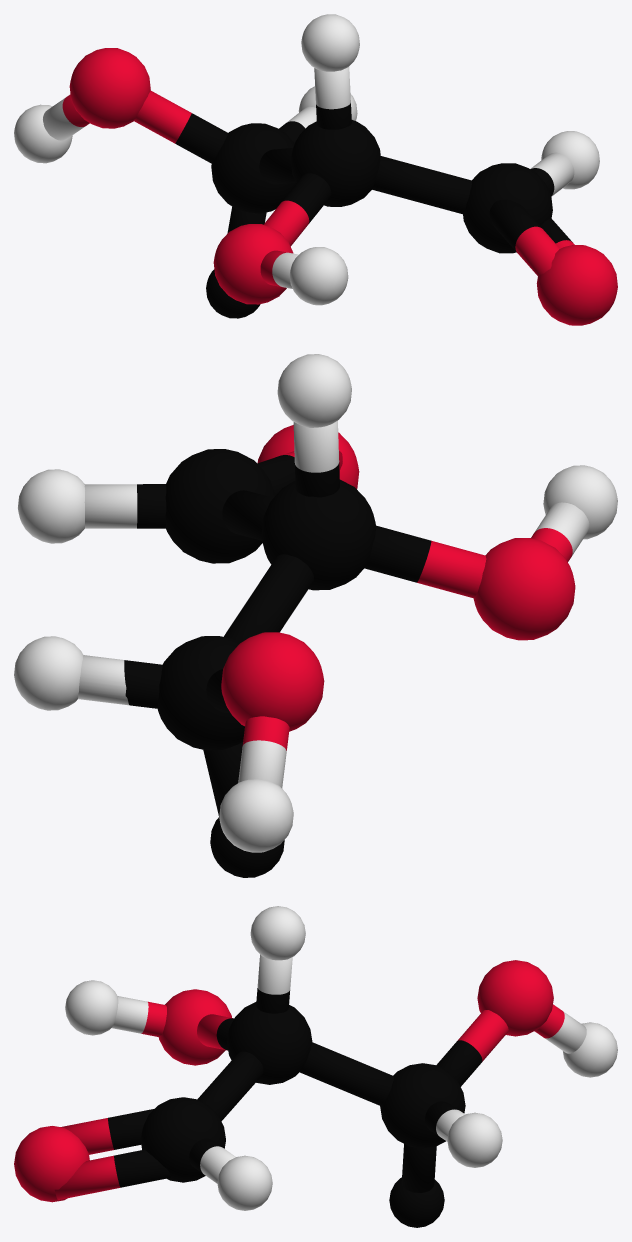
File: carbohydrates_ii.glb
3 views of the same model, one above another, from view 1: azimuth 30°, elevation 25°; view 2: azimuth 150°, elevation 25°; view 3: azimuth 270°, elevation 25° (orthographic). The views are drawn at different scales.
Visible parts, largest first — view 1: carbohydrate_0; view 2: carbohydrate_0; view 3: carbohydrate_0.
Boxes of the visible parts, x1,y1,x2,y2 form: carbohydrate_0: (14, 14, 617, 325); carbohydrate_0: (14, 354, 617, 877); carbohydrate_0: (14, 906, 617, 1227).
Size of the model in its own units: 4.59 by 3.78 by 6.34.
